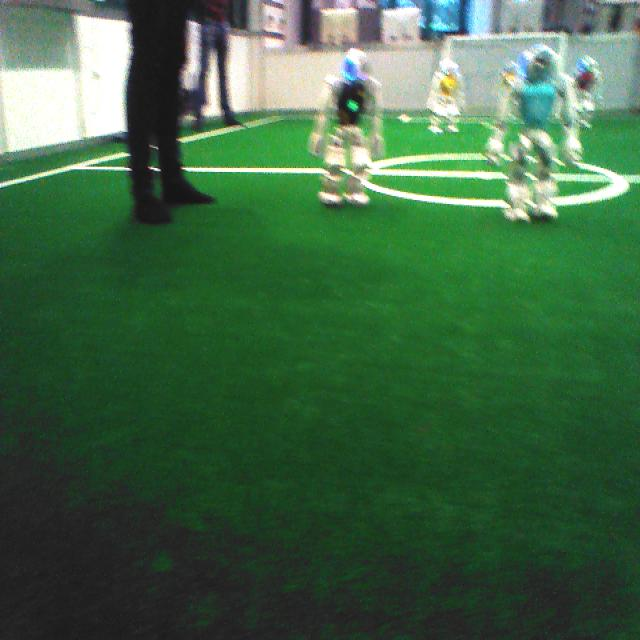goalpost: (555, 32, 567, 119), (441, 36, 450, 60)
